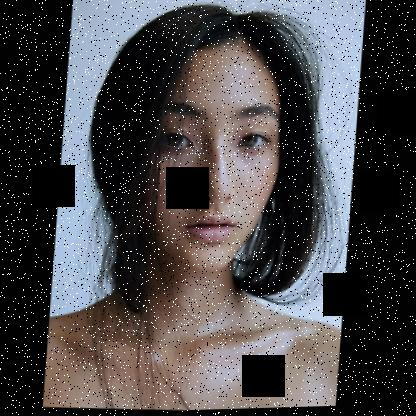Female: (145, 37, 287, 274)
